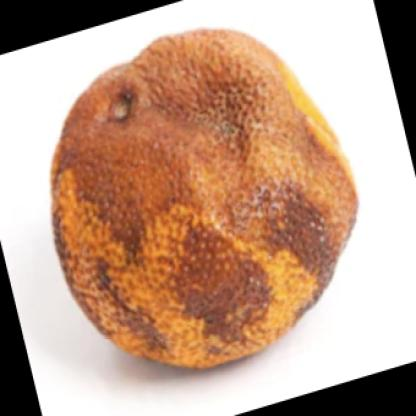rotten: (54, 31, 359, 370)
